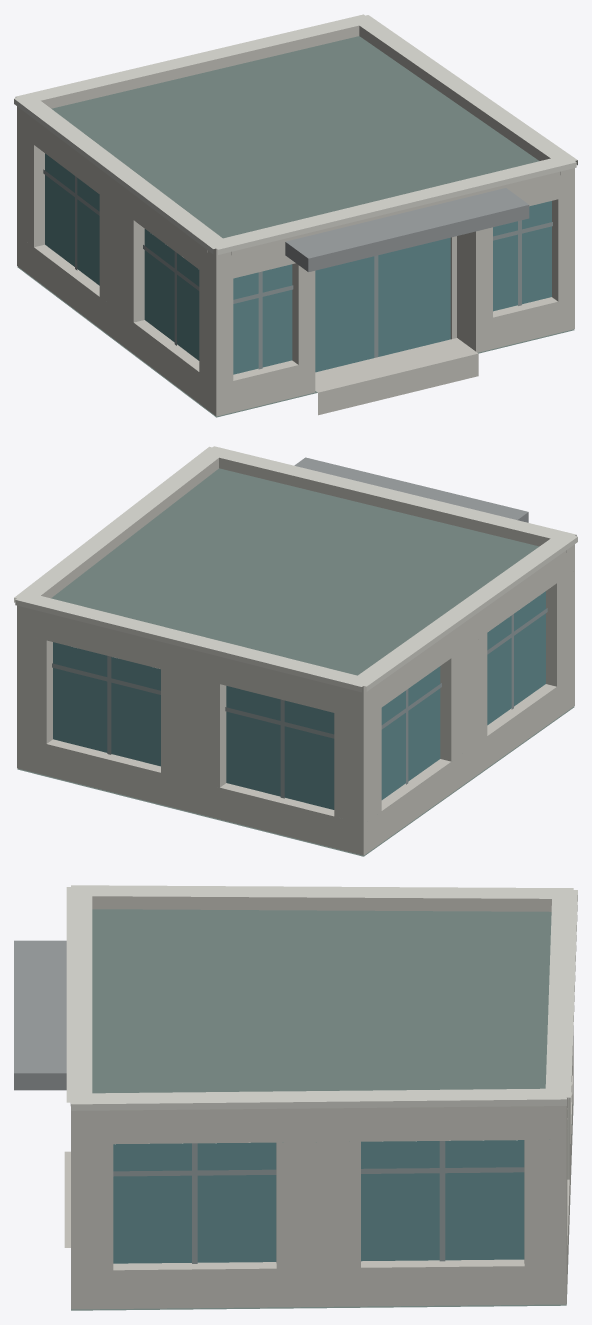
3 renders of one model, top to bottom at view 1: azimuth 30°, elevation 25°; view 2: azimuth 150°, elevation 25°; view 3: azimuth 270°, elevation 25°, orthographic. The views are drawn at different scales.
Visible parts, largest first — view 1: parking__roof, parking__wall, parking__glass, parking__trim, parking__canopy, parking__parapet, parking__entranceThreshold, parking__frame; view 2: parking__wall, parking__roof, parking__glass, parking__trim, parking__parapet, parking__frame, parking__canopy; view 3: parking__roof, parking__wall, parking__glass, parking__trim, parking__parapet, parking__canopy, parking__frame, parking__entranceThreshold.
Boxes of the visible parts, x1,y1,x2,y2 form: parking__roof: (17, 36, 574, 417); parking__wall: (17, 108, 574, 416); parking__glass: (45, 153, 551, 374); parking__trim: (14, 14, 577, 254); parking__canopy: (285, 188, 529, 272); parking__parapet: (17, 25, 574, 258); parking__entranceThreshold: (315, 338, 478, 415); parking__frame: (43, 169, 552, 369); parking__wall: (17, 547, 574, 855); parking__roof: (17, 468, 574, 856); parking__glass: (53, 591, 545, 809); parking__trim: (14, 446, 577, 692); parking__parapet: (17, 457, 574, 696); parking__frame: (52, 608, 547, 798); parking__canopy: (294, 457, 528, 522); parking__roof: (71, 909, 573, 1310); parking__wall: (71, 1032, 573, 1309); parking__glass: (113, 1140, 524, 1263); parking__trim: (66, 885, 577, 1110); parking__parapet: (70, 896, 567, 1115); parking__canopy: (14, 940, 66, 1090); parking__frame: (113, 1141, 524, 1263); parking__entranceThreshold: (64, 1151, 70, 1247).
Bounding box in the file's own units: 7.27 × 3.6 × 7.91.
